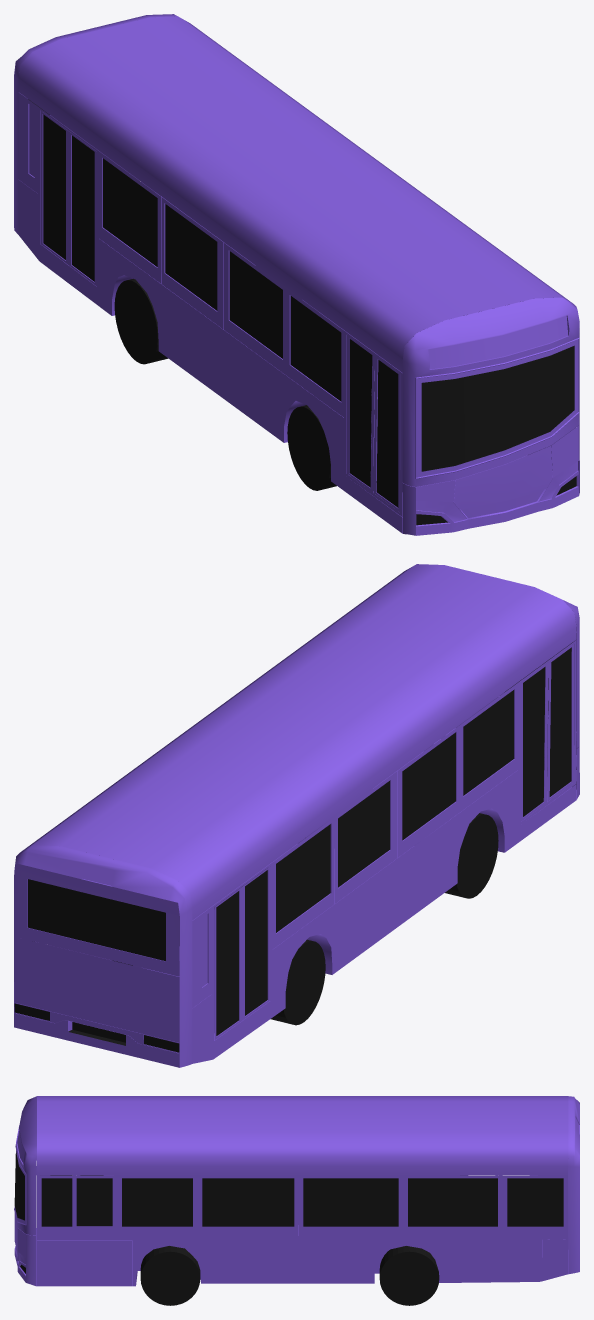
File: small-bus.glb
The picture shows the model from 3 angles, top to bottom: view 1: azimuth 30°, elevation 25°; view 2: azimuth 150°, elevation 25°; view 3: azimuth 270°, elevation 25°; orthographic projection. The views are drawn at different scales.
Parts seen in each view (by area): view 1: Cylinder.004; view 2: Cylinder.004; view 3: Cylinder.004, Cylinder, Cylinder.003.
Boxes of the visible parts, x1=… form: Cylinder.004: x1=14, y1=14, x2=579, y2=535; Cylinder.004: x1=14, y1=564, x2=579, y2=1067; Cylinder.004: x1=14, y1=1096, x2=579, y2=1298; Cylinder: x1=379, y1=1252, x2=439, y2=1305; Cylinder.003: x1=141, y1=1252, x2=199, y2=1305.
Bounding box in the file's own units: 2.51 × 3.06 × 9.94.
